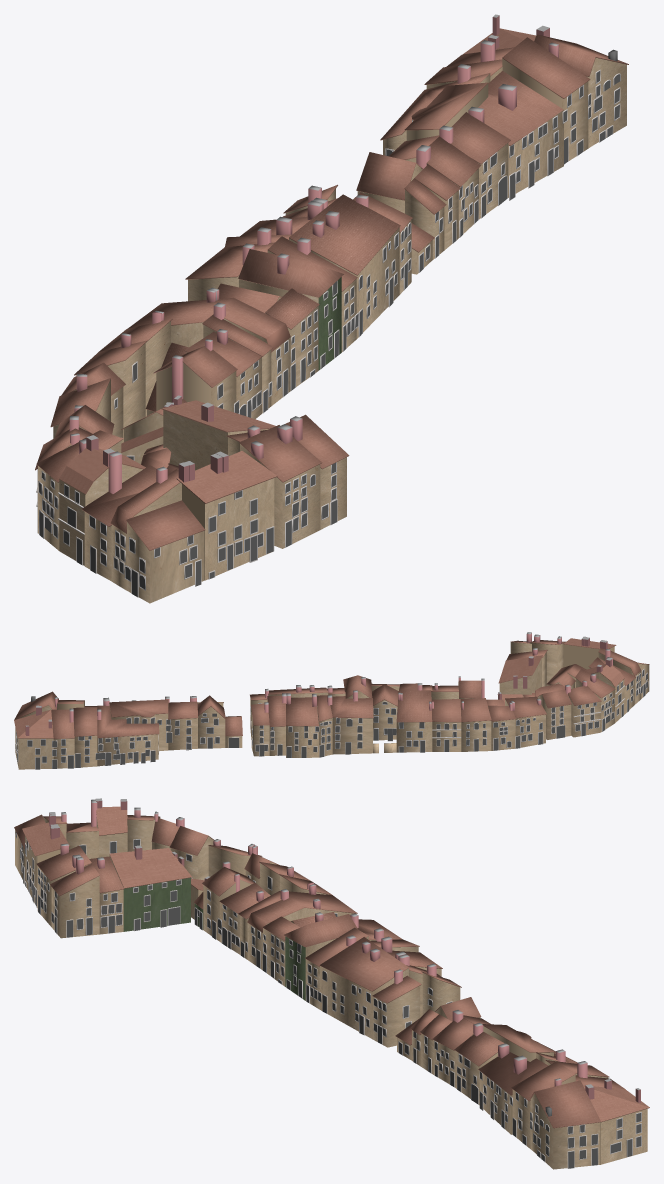
The model's file is ilot27combine.fbx.
3 views of the same model, one above another, from view 1: azimuth 30°, elevation 25°; view 2: azimuth 150°, elevation 25°; view 3: azimuth 270°, elevation 25° (orthographic). The views are drawn at different scales.
Parts seen in each view (by area): view 1: _ILOT27BAT1, _ILOT27BAT13, _ILOT27BAT56, _ILOT27BAT23, _ILOT27BAT22, _ILOT27BAT25, _ILOT27BAT14, _ILOT27BAT4, _ILOT27BAT21, _ILOT27BAT3, _ILOT27BAT29, _ILOT27BAT24 (+29 smaller); view 2: _ILOT27BAT6, _ILOT27BAT15, _ILOT27BAT25, _ILOT27BAT2, _ILOT27BAT18, _ILOT27BAT7, _ILOT27BAT27, _ILOT27BAT26, _ILOT27BAT38, _ILOT27BAT21, _ILOT27BAT8, _ILOT27BAT39 (+27 smaller); view 3: _ILOT27BAT21, _ILOT27BAT3, _ILOT27BAT13, _ILOT27BAT2, _ILOT27BAT34, _ILOT27BAT56, _ILOT27BAT25, _ILOT27BAT14, _ILOT27BAT10, _ILOT27BAT33, _ILOT27BAT4, _ILOT27BAT1 (+24 smaller).
Part boxes in pixels (x1,y1,x2,y2): _ILOT27BAT1: [176, 451, 277, 580]; _ILOT27BAT13: [289, 194, 400, 338]; _ILOT27BAT56: [468, 71, 567, 200]; _ILOT27BAT23: [124, 500, 205, 603]; _ILOT27BAT22: [239, 424, 321, 548]; _ILOT27BAT25: [127, 287, 290, 405]; _ILOT27BAT14: [238, 249, 343, 370]; _ILOT27BAT4: [502, 37, 590, 164]; _ILOT27BAT21: [161, 395, 275, 470]; _ILOT27BAT3: [534, 34, 628, 148]; _ILOT27BAT29: [58, 435, 145, 565]; _ILOT27BAT24: [153, 339, 237, 412]; _ILOT27BAT6: [95, 705, 159, 766]; _ILOT27BAT15: [327, 690, 373, 754]; _ILOT27BAT25: [396, 683, 432, 752]; _ILOT27BAT2: [14, 705, 53, 769]; _ILOT27BAT18: [286, 693, 319, 757]; _ILOT27BAT7: [109, 699, 172, 751]; _ILOT27BAT27: [460, 698, 491, 751]; _ILOT27BAT26: [431, 699, 461, 751]; _ILOT27BAT38: [505, 696, 546, 748]; _ILOT27BAT21: [498, 655, 542, 695]; _ILOT27BAT8: [73, 707, 97, 767]; _ILOT27BAT39: [568, 680, 601, 737]; _ILOT27BAT21: [109, 845, 192, 931]; _ILOT27BAT3: [530, 1078, 600, 1169]; _ILOT27BAT13: [319, 937, 408, 1039]; _ILOT27BAT2: [583, 1079, 649, 1164]; _ILOT27BAT34: [50, 857, 99, 938]; _ILOT27BAT56: [478, 1043, 548, 1134]; _ILOT27BAT25: [247, 884, 357, 969]; _ILOT27BAT14: [284, 912, 357, 1000]; _ILOT27BAT10: [372, 969, 421, 1047]; _ILOT27BAT33: [454, 1023, 504, 1105]; _ILOT27BAT4: [511, 1061, 575, 1148]; _ILOT27BAT1: [22, 812, 70, 907].
Bounding box in the file's own units: 22.79 × 3.07 × 20.55.
